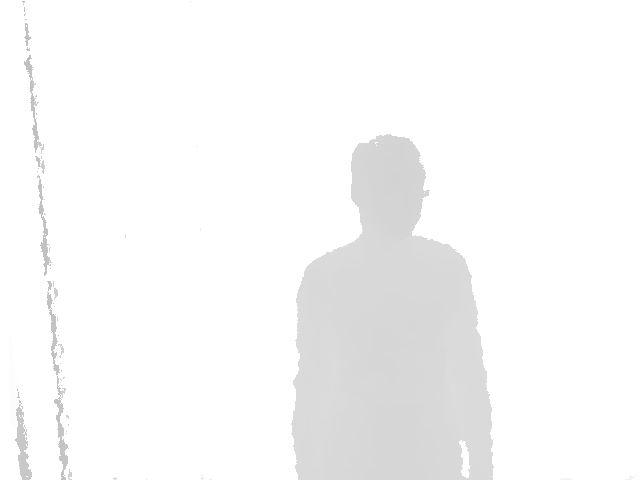head: (350, 134, 429, 236)
person: (290, 134, 495, 480)
